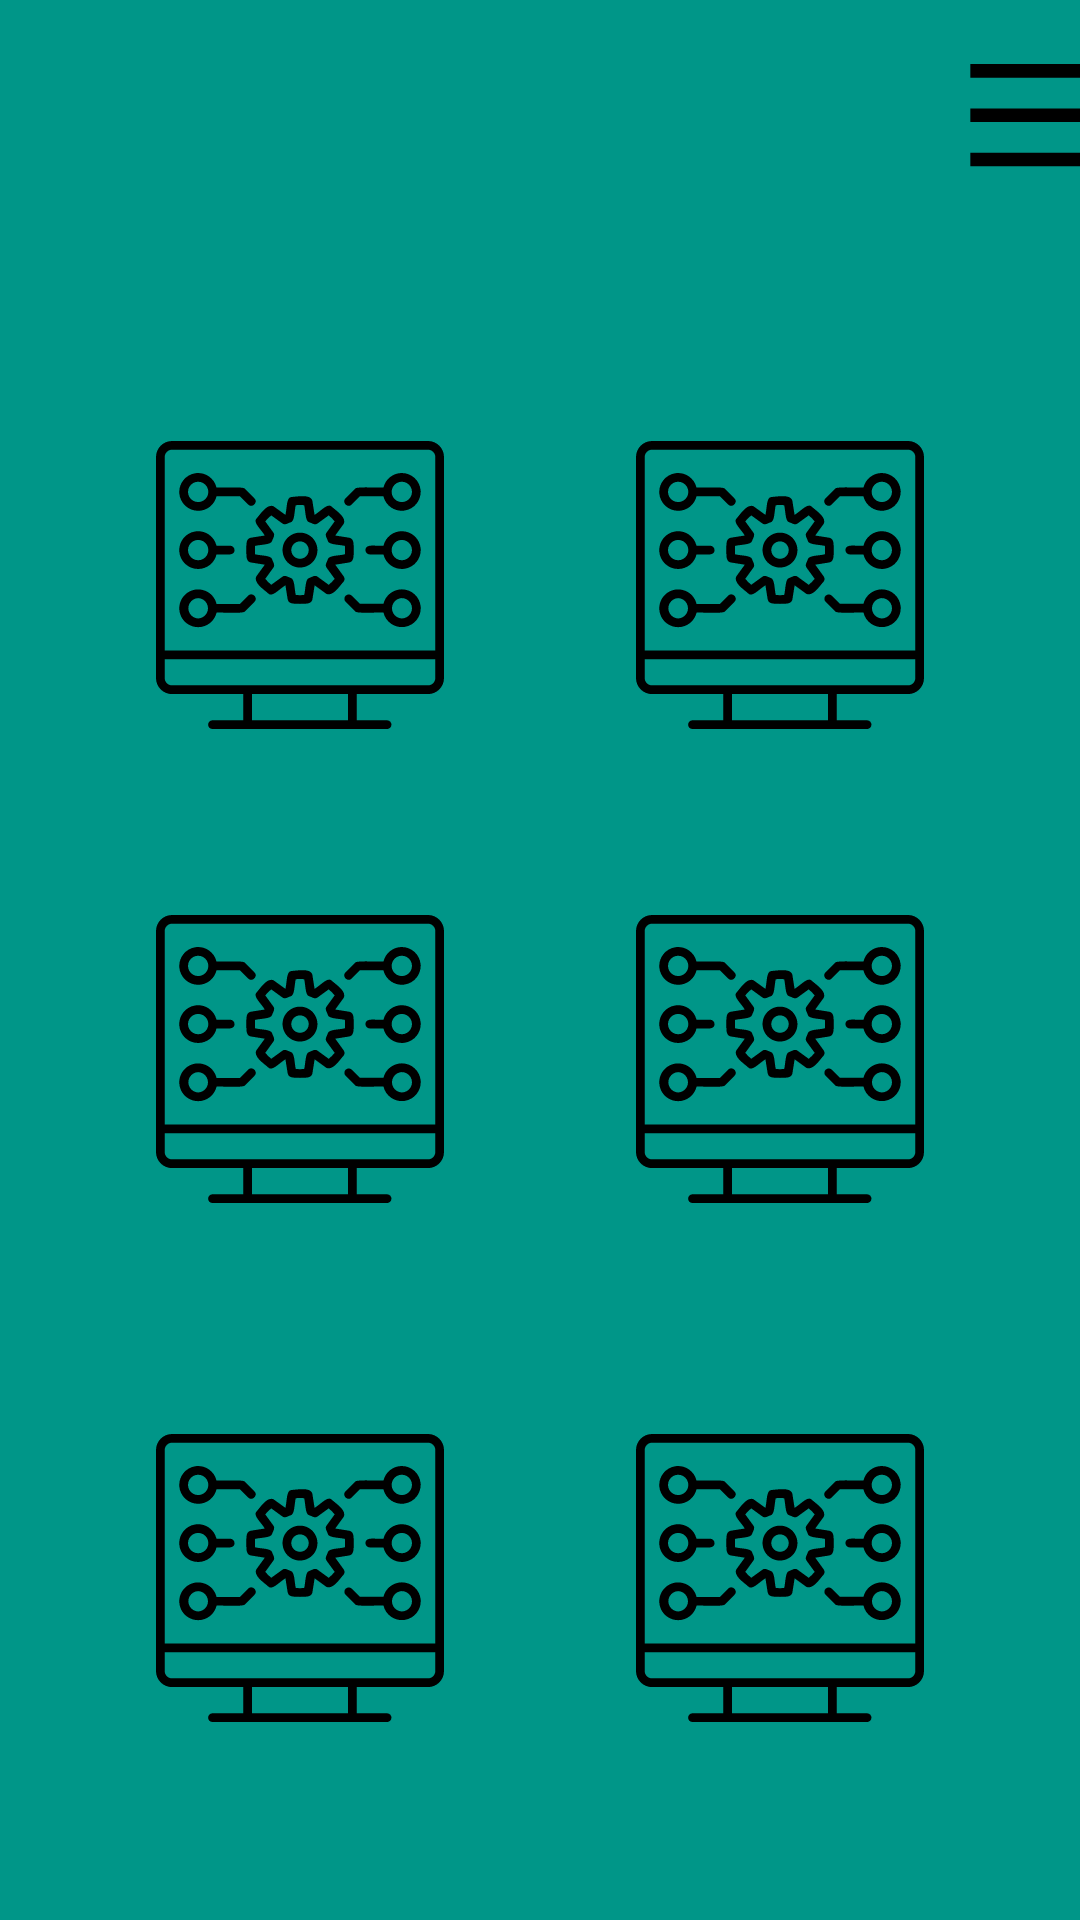

Icon click points for this 1080px×1920px phone screenshot, format [x,y]:
noun software: [300,585], [780,585], [300,1059], [780,1059], [300,1578]
